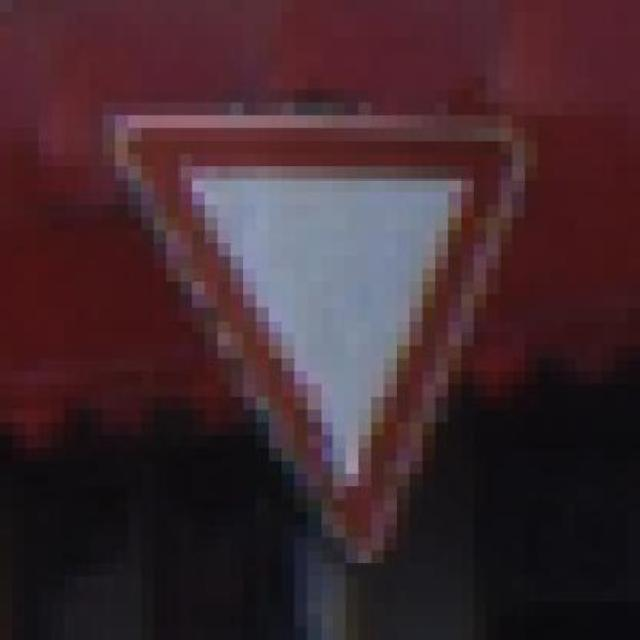Give Way: (77, 64, 563, 576)
